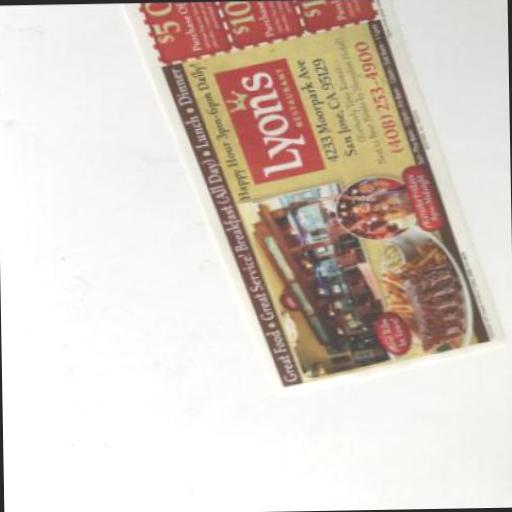paper: (122, 0, 512, 399)
